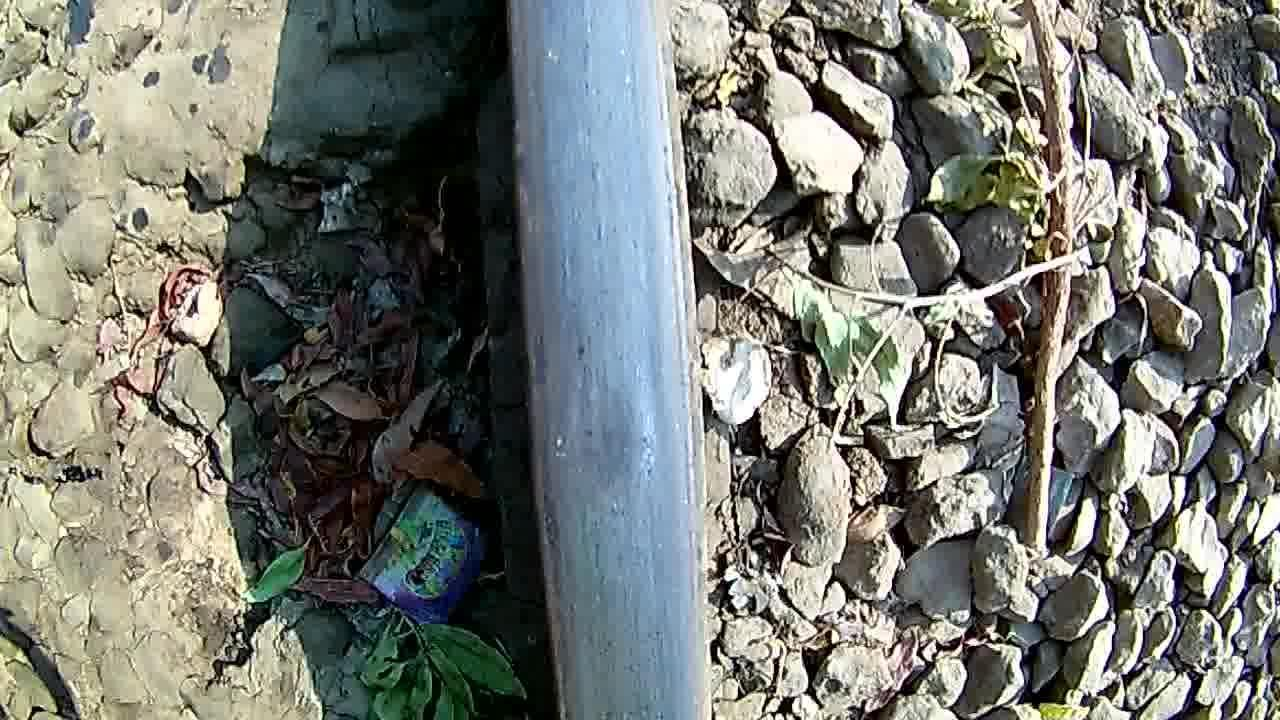crack: (518, 234, 684, 596)
